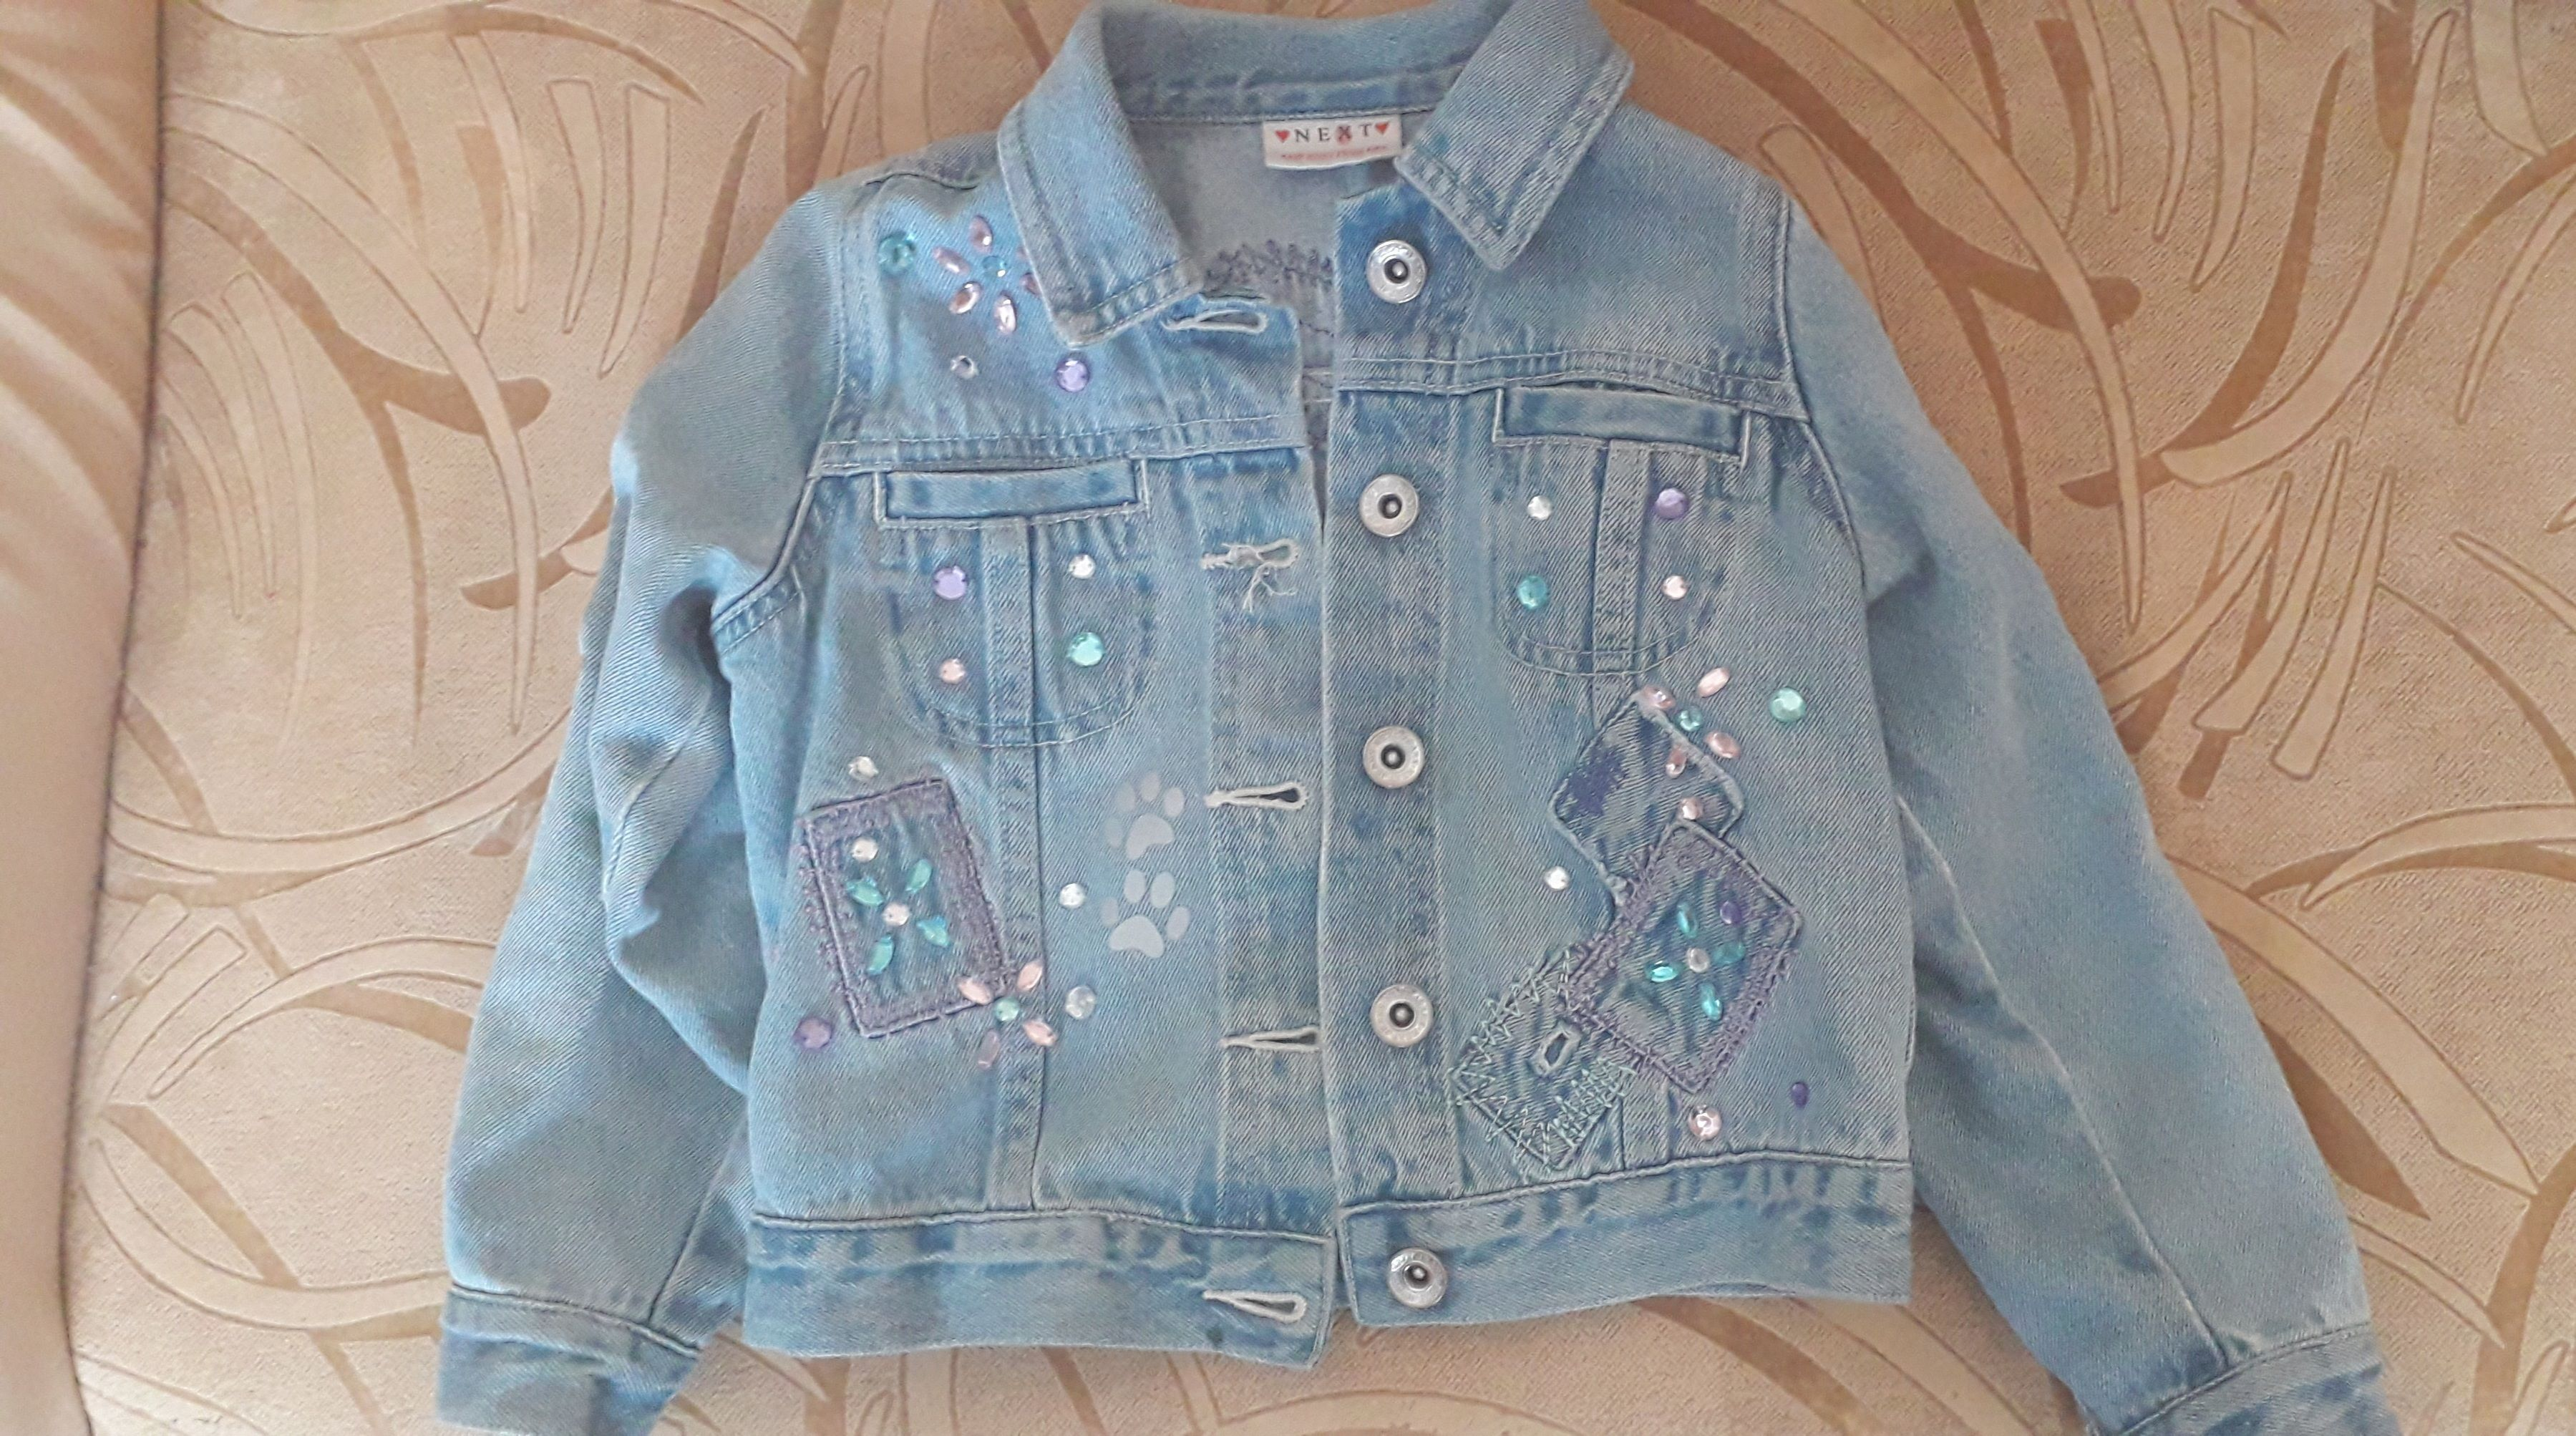clothes: (424, 9, 2392, 1436)
